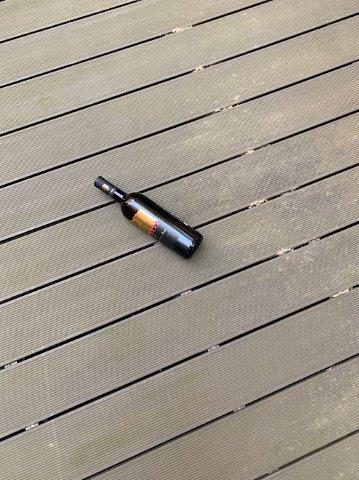botolkaca: (93, 176, 204, 257)
